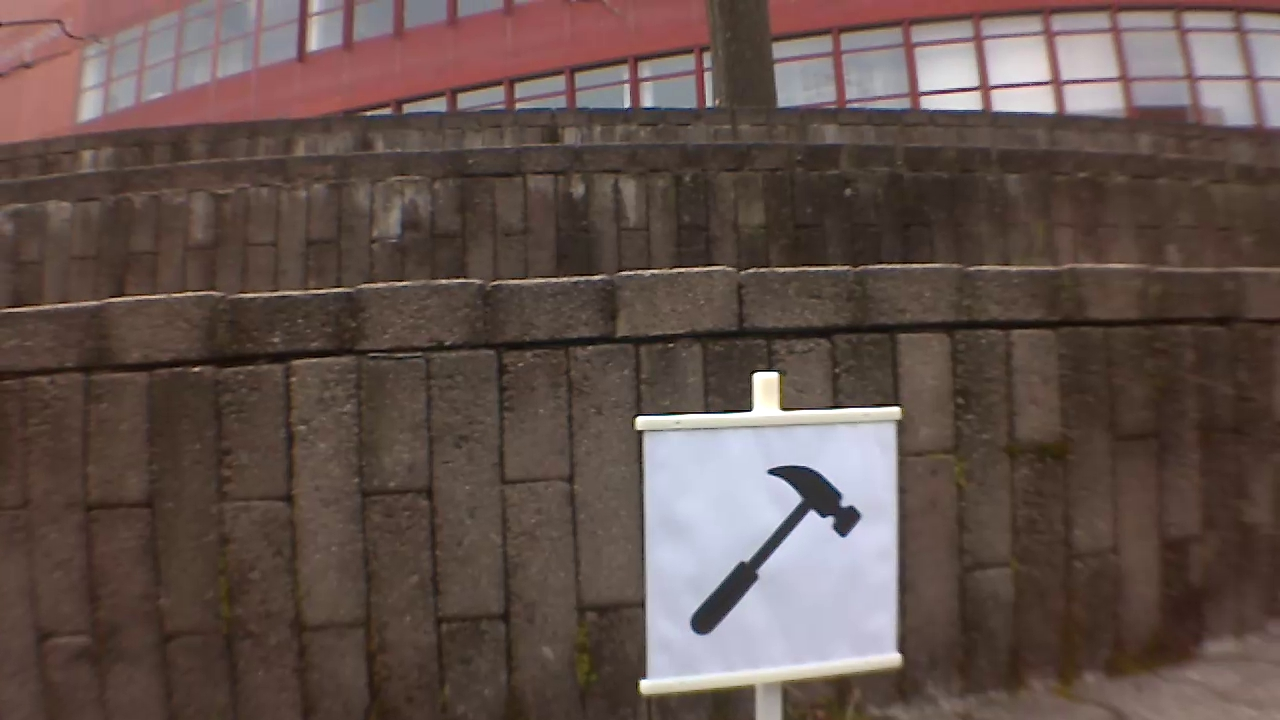hammer: (679, 454, 864, 640)
